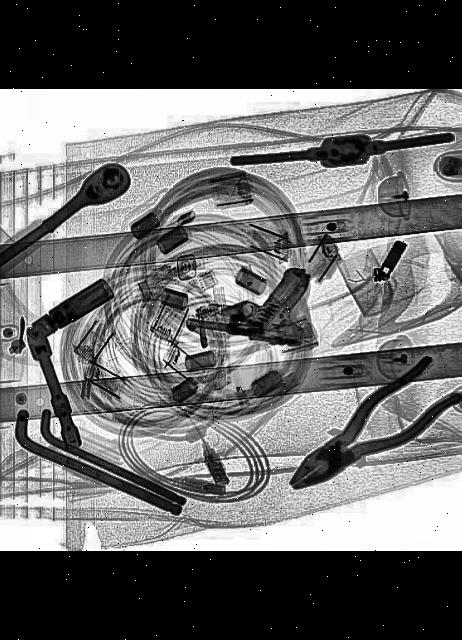Gun: (184, 253, 320, 347)
Pliers: (267, 353, 462, 508)
